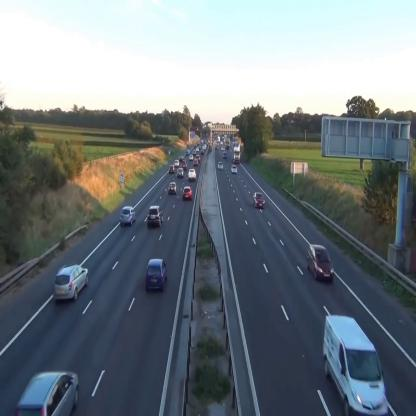car: (14, 371, 79, 416), (54, 264, 89, 303), (307, 244, 334, 280), (146, 258, 168, 290), (147, 206, 163, 228), (120, 206, 135, 226), (253, 191, 265, 209), (182, 186, 192, 200), (169, 182, 177, 195), (188, 168, 196, 180), (177, 168, 184, 178), (169, 164, 175, 172), (232, 165, 238, 173), (218, 161, 223, 170), (193, 158, 198, 165), (174, 160, 179, 167), (190, 154, 193, 161)
lorry: (323, 315, 388, 415)
